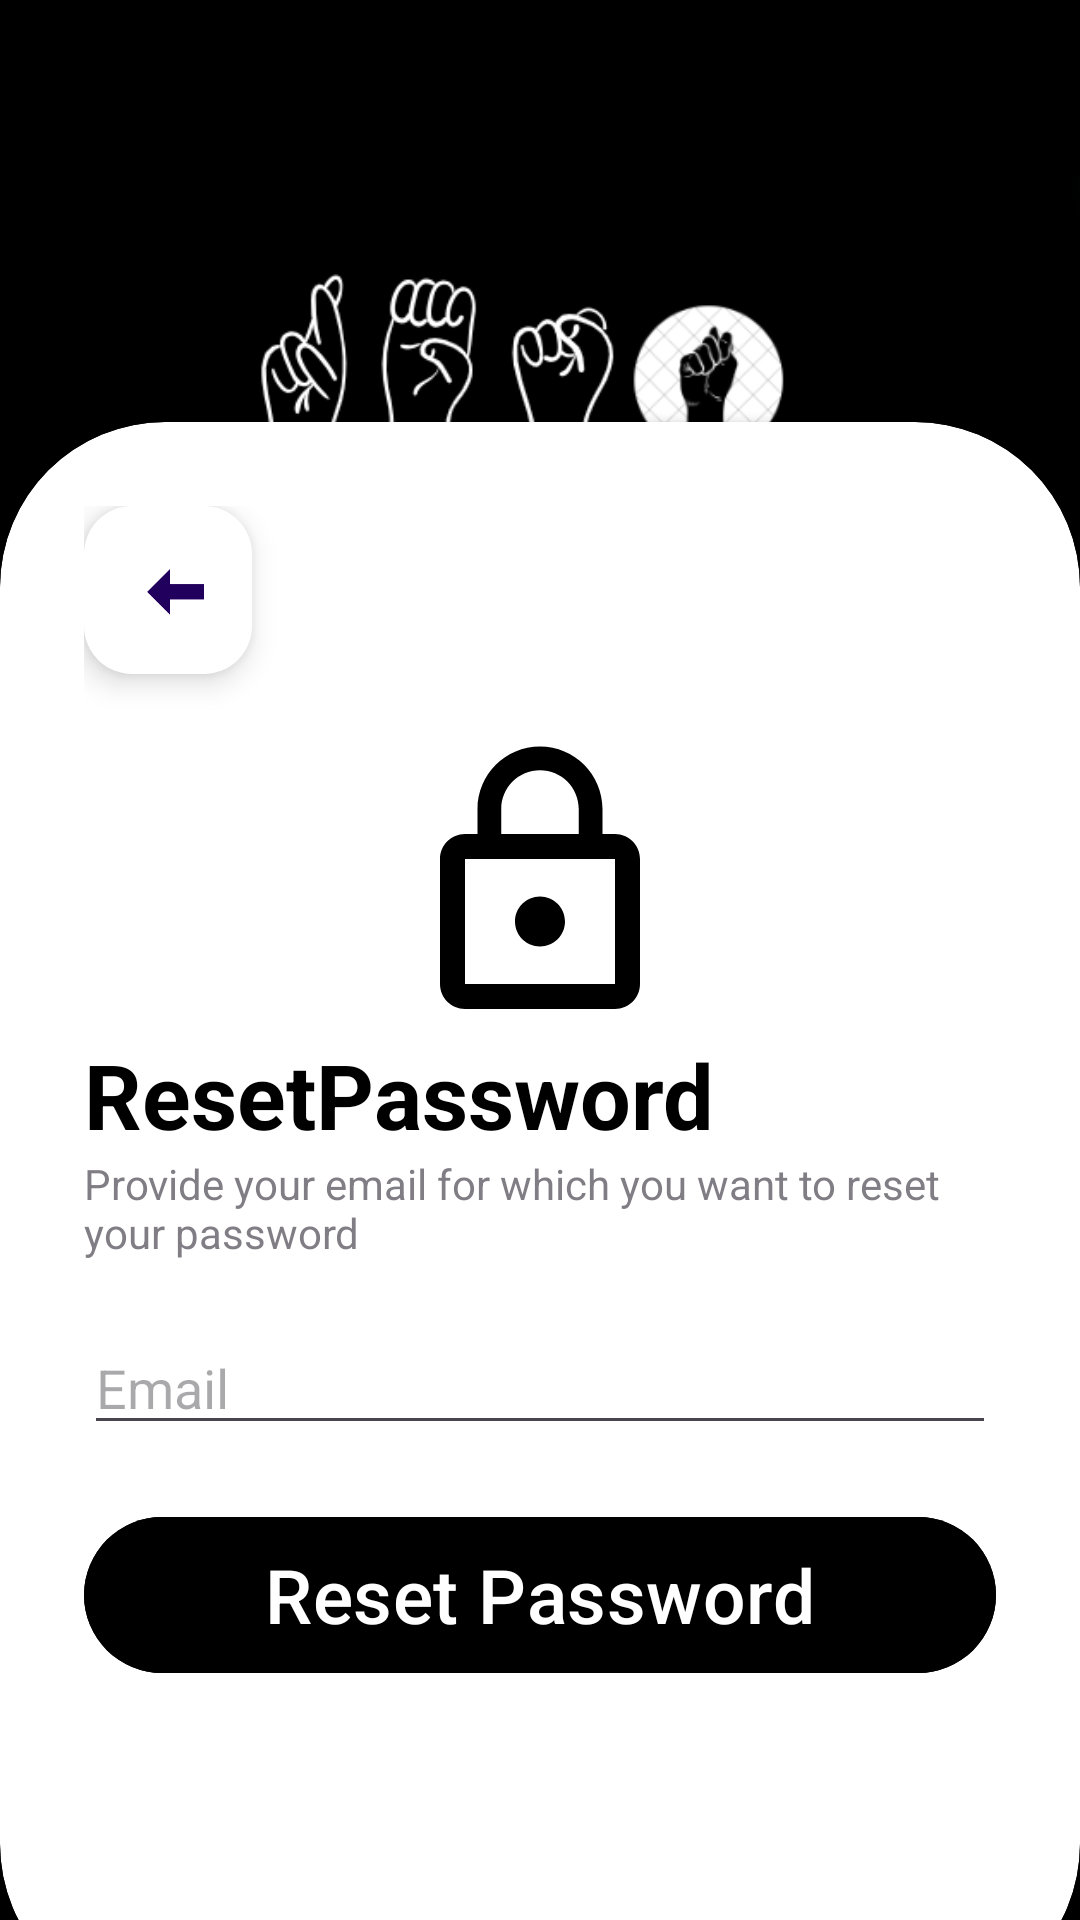

Icon bounding boxes for this 1080×1920 phone screenshot, format bbox(x1, y1, x2, y2):
arrow back: bbox(84, 532, 240, 674)
lock: bbox(440, 746, 640, 1009)
